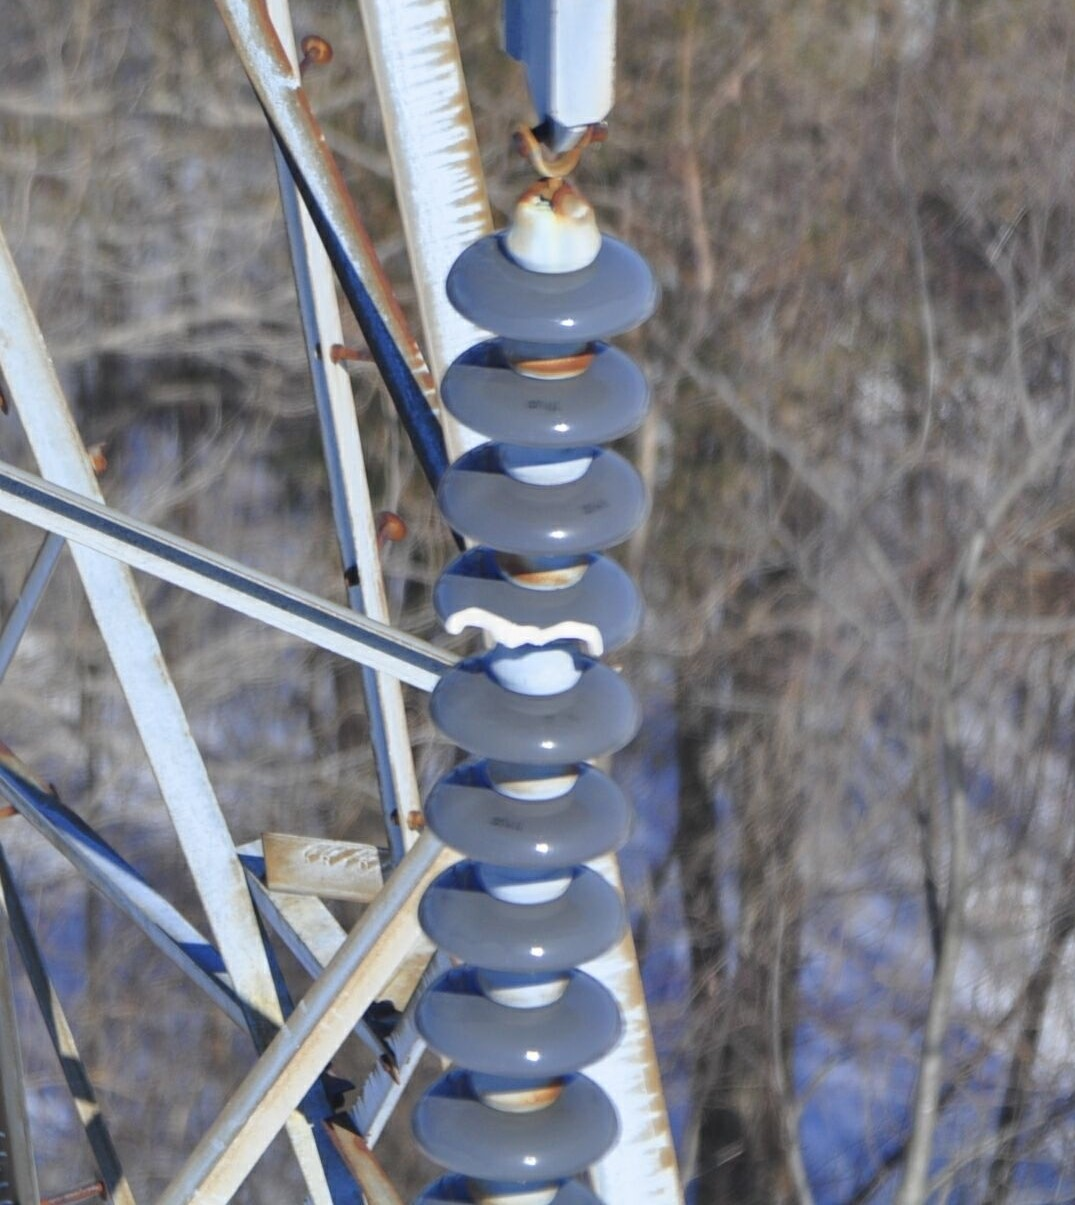insulator breakage: (415, 548, 661, 662)
